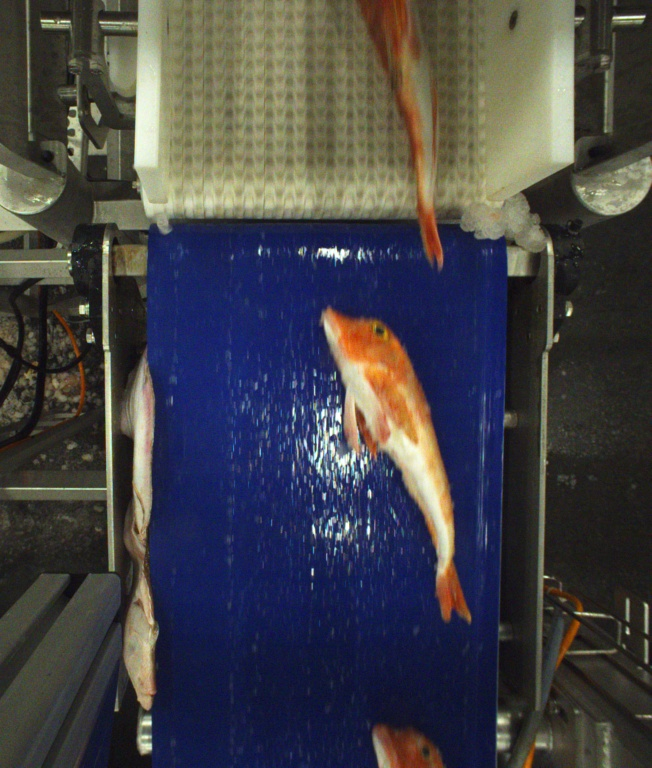GUU: (318, 306, 472, 624)
